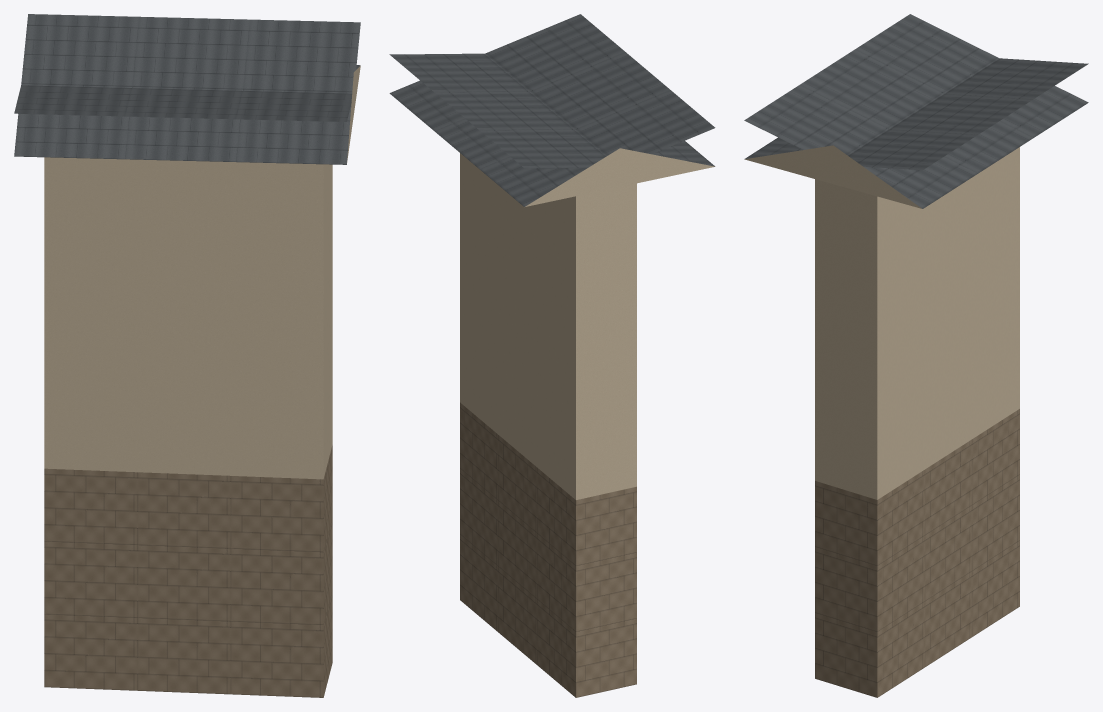
The model's file is bld_c32_-41_445.gltf.
3 renders of one model, left to right at view 1: azimuth 30°, elevation 25°; view 2: azimuth 150°, elevation 25°; view 3: azimuth 270°, elevation 25°, orthographic. The views are drawn at different scales.
Parts seen in each view (by area): view 1: bld_c32_-41_445; view 2: bld_c32_-41_445; view 3: bld_c32_-41_445.
Boxes of the visible parts, x1=… form: bld_c32_-41_445: x1=14, y1=14, x2=360, y2=697; bld_c32_-41_445: x1=389, y1=14, x2=715, y2=697; bld_c32_-41_445: x1=744, y1=14, x2=1088, y2=697.
Size of the model in its own units: 8.64 by 14.2 by 8.05.
4 materials, 4 textured.
